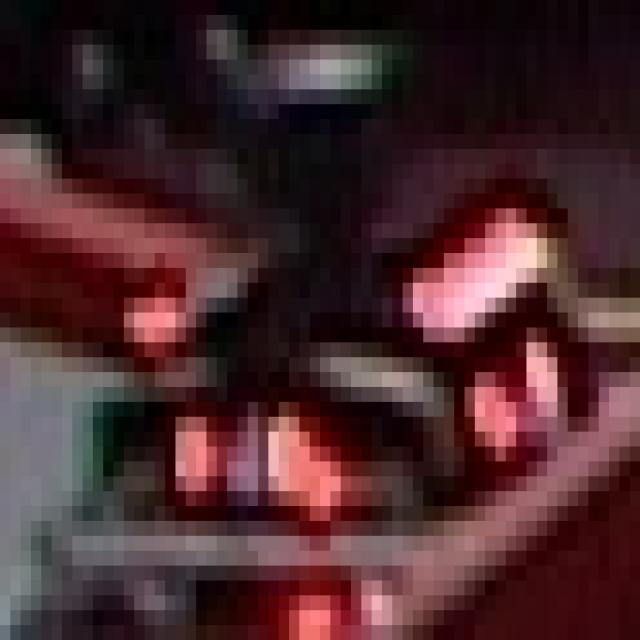R4: (165, 402, 310, 506)
